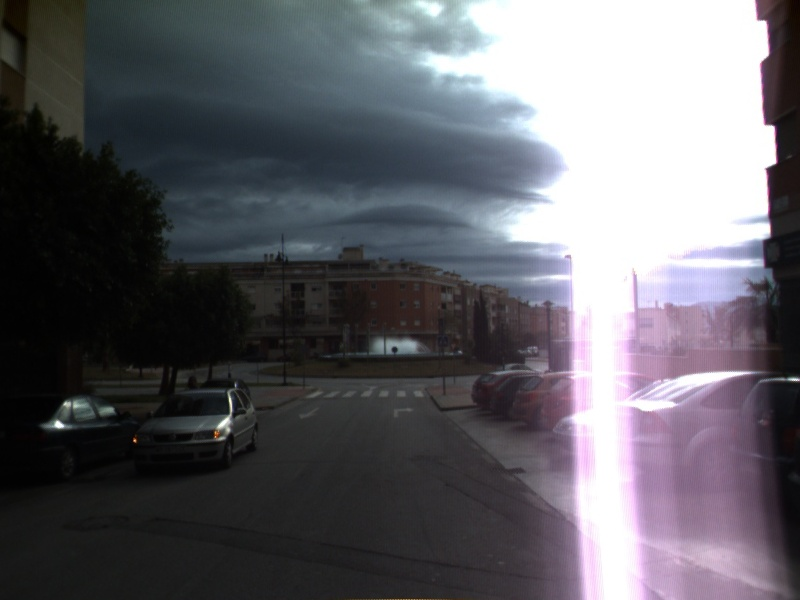RIGHT: (391, 405, 416, 420)
